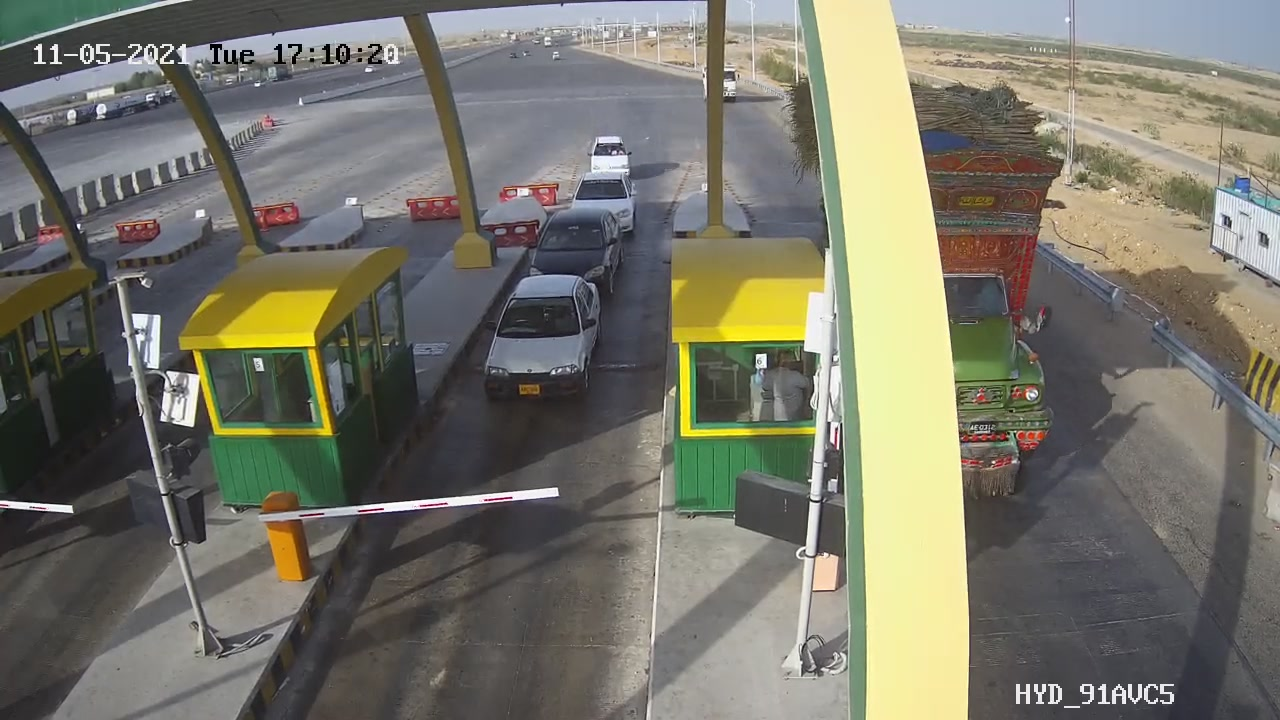F1: (468, 262, 617, 409), (508, 191, 640, 304)
